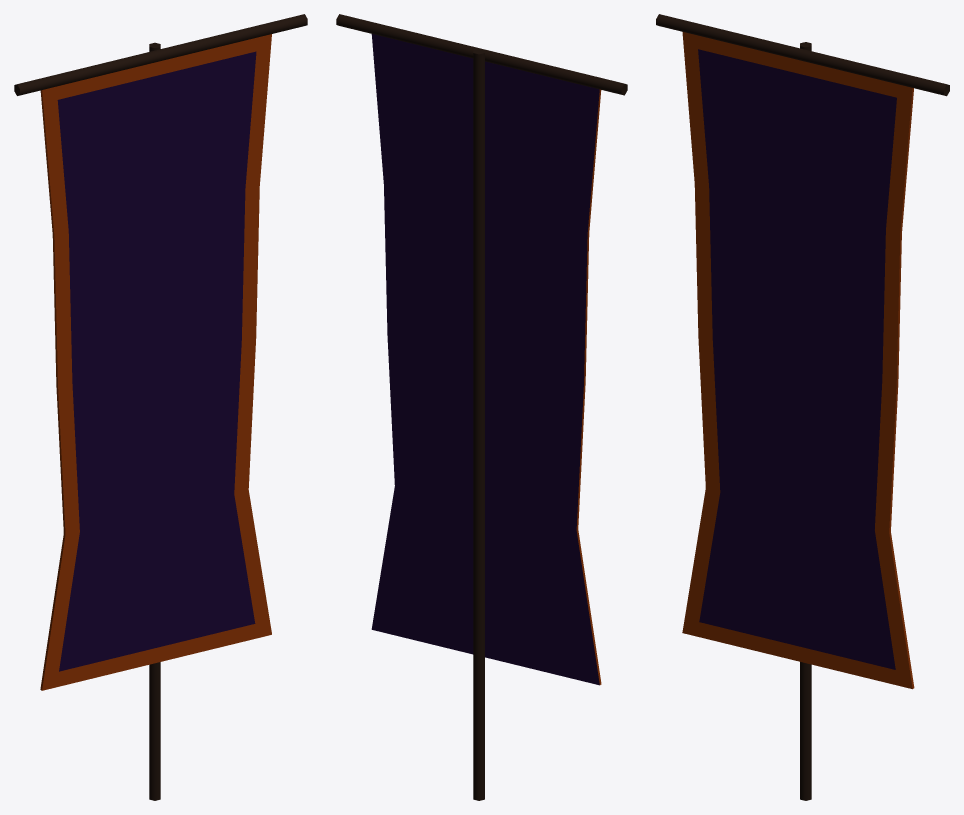
The model's file is Banner 001.FBX.
The picture shows the model from 3 angles, left to right: view 1: azimuth 30°, elevation 25°; view 2: azimuth 150°, elevation 25°; view 3: azimuth 330°, elevation 25°; orthographic projection.
Parts seen in each view (by area): view 1: Banner 001, Banner Stand001, Banner Stand; view 2: Banner 001, Banner Stand, Banner Stand001; view 3: Banner 001, Banner Stand001, Banner Stand.
Part boxes in pixels (<box>): Banner 001: <box>40,34,271,690</box>; Banner Stand001: <box>14,14,307,95</box>; Banner Stand: <box>149,42,160,800</box>; Banner 001: <box>371,34,601,685</box>; Banner Stand: <box>473,49,484,800</box>; Banner Stand001: <box>336,14,627,95</box>; Banner 001: <box>682,31,914,689</box>; Banner Stand001: <box>656,14,949,96</box>; Banner Stand: <box>800,42,811,800</box>.
Bounding box in the file's own units: 1 × 2.5 × 0.0613.
